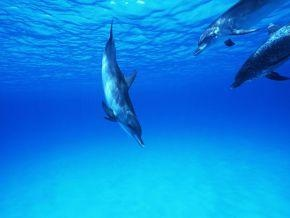fish: (95, 19, 149, 144), (192, 1, 278, 54), (230, 24, 290, 92)
